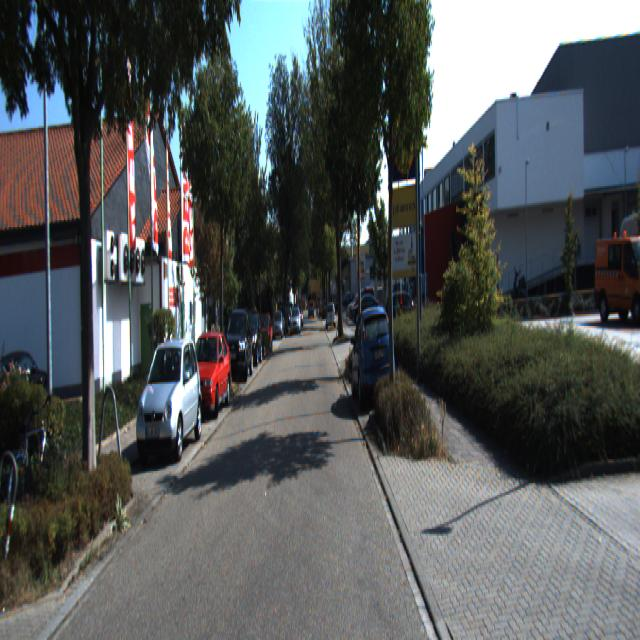Car: (135, 333, 202, 464), (350, 303, 395, 409), (184, 330, 232, 421), (223, 309, 254, 387), (239, 311, 263, 370)
DontCare: (264, 303, 302, 342), (340, 288, 377, 320), (390, 288, 419, 322), (314, 292, 335, 327), (308, 299, 313, 318)
Van: (593, 221, 639, 325)
